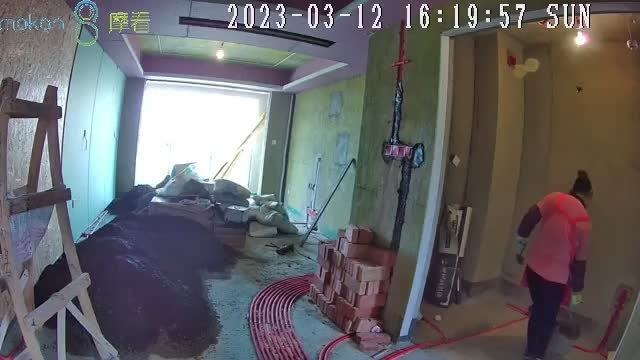people: (515, 170, 594, 360)
window: (129, 84, 265, 193)
